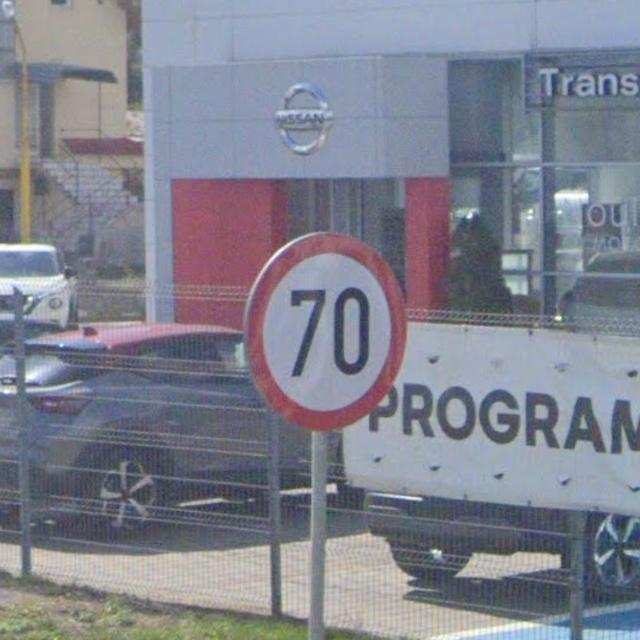forb_speed_over_70: (241, 230, 406, 427)
